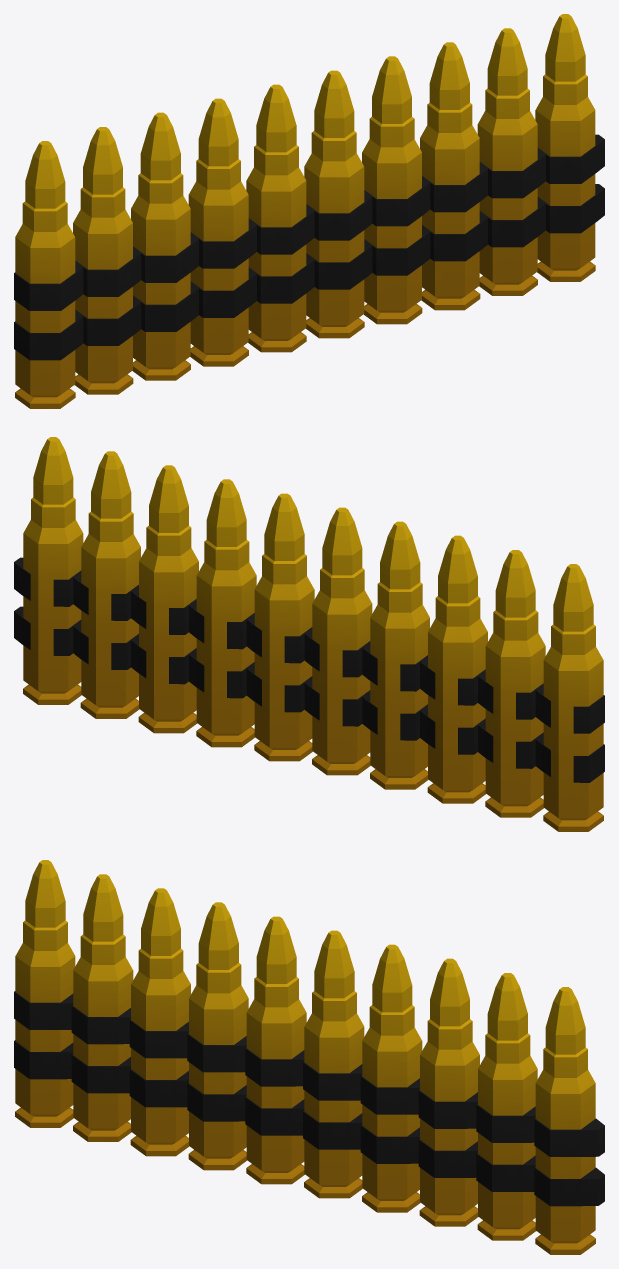
The model's file is Bullet_556_V1_Belt.glb.
The picture shows the model from 3 angles, top to bottom: view 1: azimuth 30°, elevation 25°; view 2: azimuth 150°, elevation 25°; view 3: azimuth 330°, elevation 25°; orthographic projection.
Parts seen in each view (by area): view 1: Bullet_556_V1_Belt; view 2: Bullet_556_V1_Belt; view 3: Bullet_556_V1_Belt.
Boxes of the visible parts, <box> form: Bullet_556_V1_Belt: <box>14,14,604,408</box>; Bullet_556_V1_Belt: <box>14,437,604,831</box>; Bullet_556_V1_Belt: <box>14,860,604,1254</box>.
Size of the model in its own units: 0.136 by 0.057 by 0.0125.
1 material, 1 textured.
